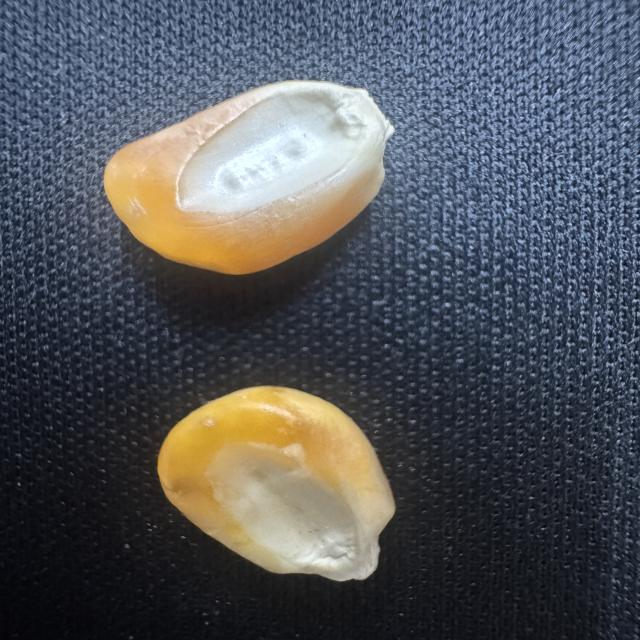Good-Seed: (94, 73, 431, 281), (147, 373, 409, 590)
